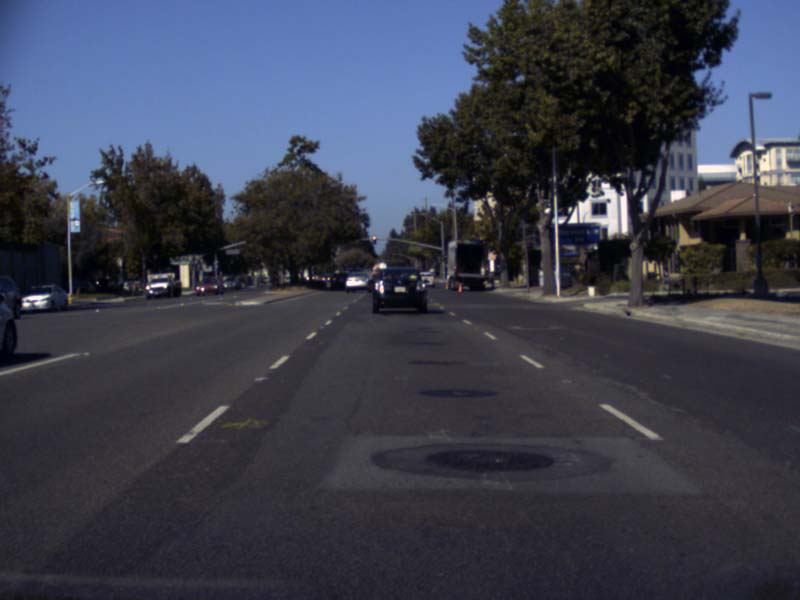Red: (372, 235, 376, 244)
